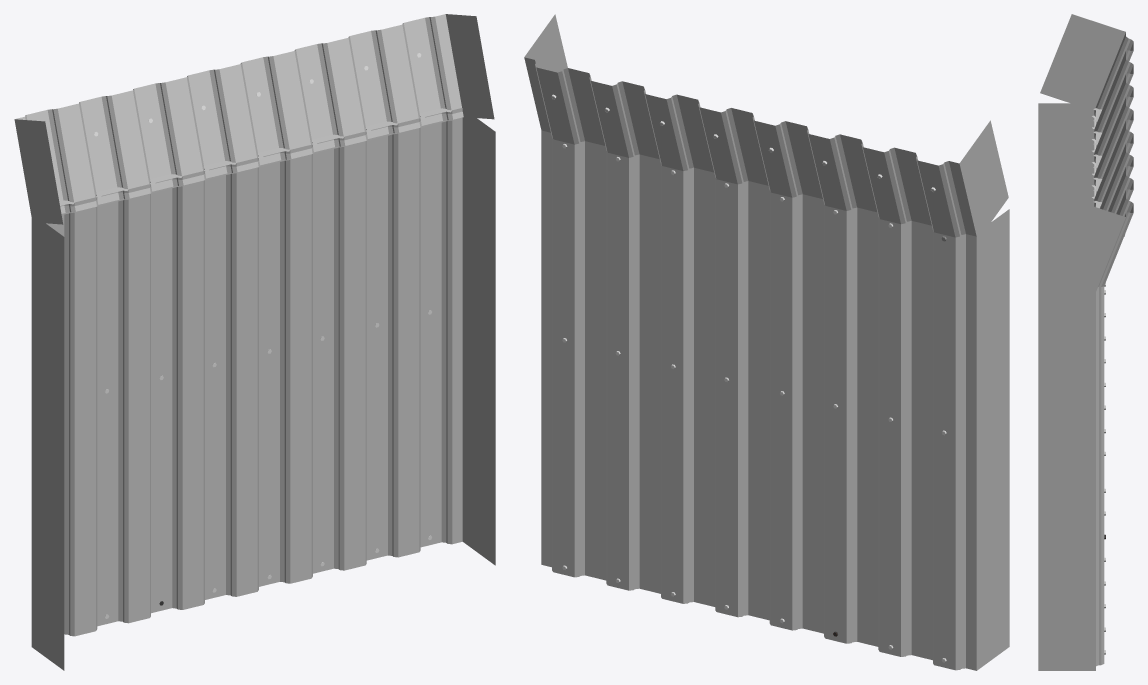
The model's file is Wall_Section.FBX.
3 views of the same model, side by side, from view 1: azimuth 30°, elevation 25°; view 2: azimuth 150°, elevation 25°; view 3: azimuth 270°, elevation 25° (orthographic). The views are drawn at different scales.
Parts seen in each view (by area): view 1: Box001; view 2: Box001; view 3: Box001.
Boxes of the visible parts, <box> form: Box001: <box>14,14,495,670</box>; Box001: <box>524,14,1009,670</box>; Box001: <box>1038,14,1133,670</box>.
Bounding box in the file's own units: 124 × 147 × 26.93.
